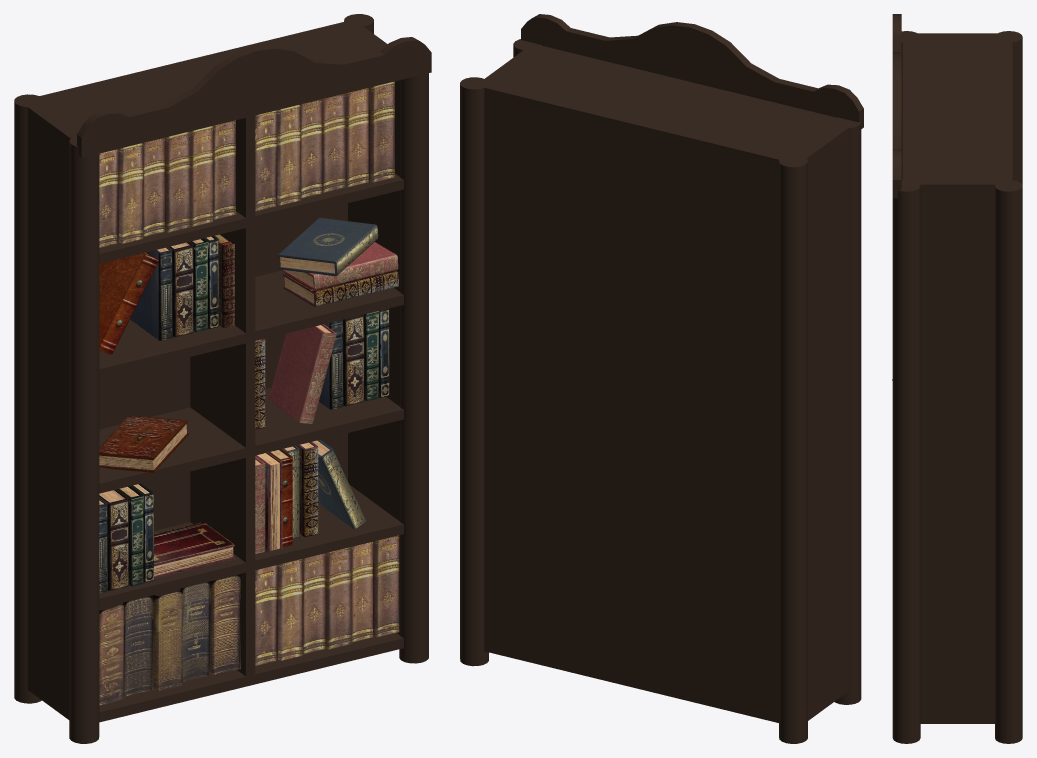
File: bookshelf.fbx
3 renders of one model, left to right at view 1: azimuth 30°, elevation 25°; view 2: azimuth 150°, elevation 25°; view 3: azimuth 270°, elevation 25°, orthographic. The views are drawn at different scales.
Visible parts, largest first — view 1: bookshelf, Cylinder, Cube, book_s3_2, book_s3_4, book_s3_1, book_s3_3, Book_s7, Book_s7.001, Book_s7.002, Book_s3.002, Book_s2.001 (+13 smaller); view 2: bookshelf, Cylinder, Cube; view 3: bookshelf, Cylinder, Cube.
Part boxes in pixels (x1,y1,x2,y2): bookshelf: [20, 19, 403, 722]; Cylinder: [14, 14, 428, 743]; Cube: [77, 37, 431, 157]; book_s3_2: [255, 535, 399, 665]; book_s3_4: [99, 574, 240, 705]; book_s3_1: [255, 81, 394, 211]; book_s3_3: [99, 120, 235, 247]; Book_s7: [130, 235, 218, 340]; Book_s7.001: [319, 308, 389, 409]; Book_s7.002: [99, 483, 153, 593]; Book_s3.002: [268, 324, 336, 423]; Book_s2.001: [278, 217, 378, 276]; bookshelf: [475, 43, 855, 722]; Cylinder: [460, 39, 861, 743]; Cube: [521, 14, 863, 128]; bookshelf: [902, 33, 1012, 723]; Cylinder: [892, 31, 1022, 743]; Cube: [892, 14, 901, 198].
Size of the model in its own units: 43.82 by 128 by 224.
